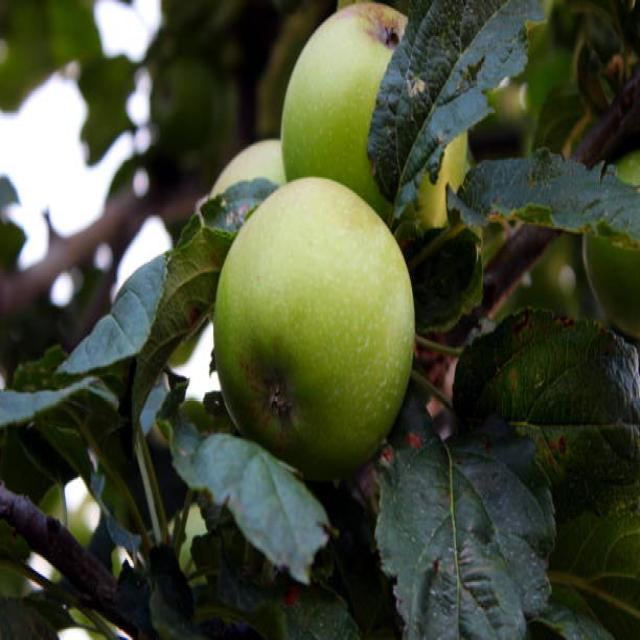Unripe: (214, 177, 416, 478)
